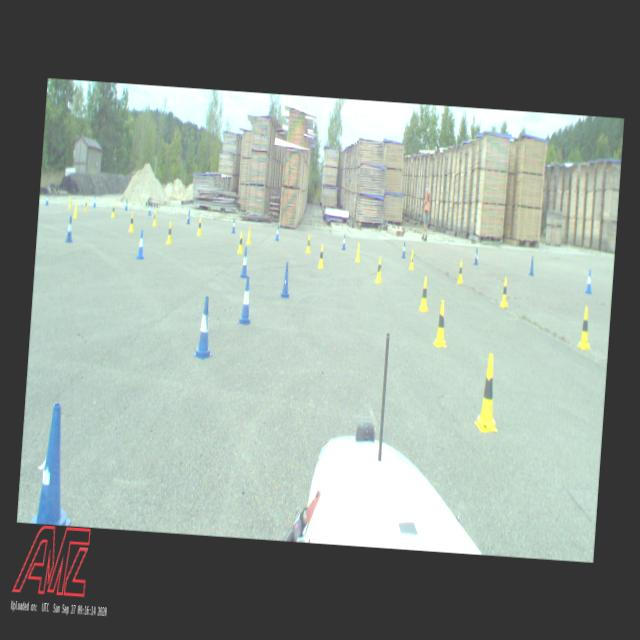blue_cone: (30, 403, 80, 526), (192, 296, 215, 360), (237, 276, 254, 324), (280, 262, 292, 298), (136, 230, 146, 260), (240, 245, 249, 277), (64, 215, 74, 242), (585, 268, 593, 294), (528, 256, 535, 276), (230, 217, 237, 233), (473, 246, 479, 264), (274, 224, 280, 242), (44, 190, 50, 206), (401, 240, 406, 258), (341, 232, 346, 250), (186, 208, 191, 224), (92, 194, 97, 208), (148, 200, 152, 217), (124, 198, 128, 212)
yellow_cone: (473, 353, 502, 434), (432, 299, 450, 347), (577, 306, 593, 352), (418, 275, 430, 312), (500, 274, 510, 308), (374, 256, 383, 283), (164, 222, 173, 246), (316, 242, 324, 269), (456, 259, 464, 283), (354, 242, 362, 262), (305, 232, 312, 254), (128, 210, 135, 232), (408, 248, 415, 269), (237, 231, 243, 255), (196, 218, 202, 236), (110, 201, 116, 218), (246, 227, 252, 244), (152, 208, 157, 226), (73, 200, 78, 218), (84, 197, 88, 211), (68, 195, 72, 209)
